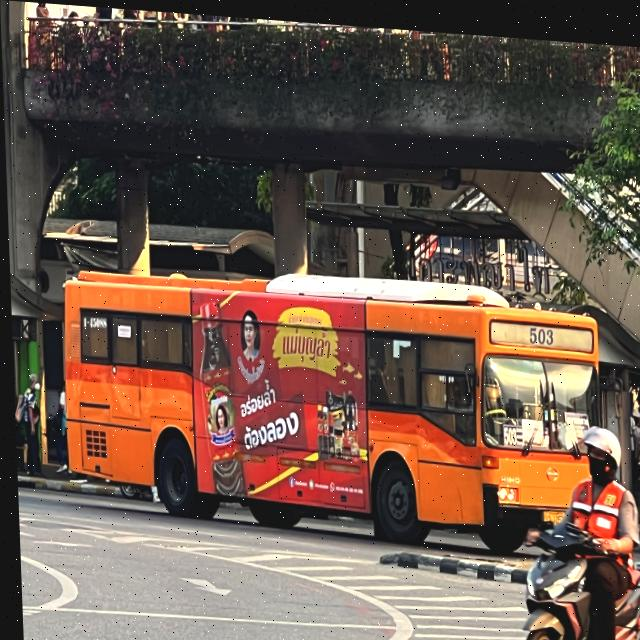BMTA-bus: (60, 270, 598, 547)
Bus Line Number: (521, 313, 558, 342)
Destination Sign: (559, 401, 587, 430)
